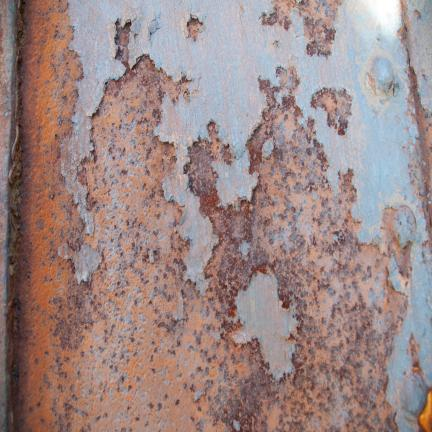besi_tidak_karat: (69, 0, 416, 242)
karat: (18, 3, 68, 430), (101, 92, 157, 427), (300, 265, 383, 381), (179, 344, 258, 432), (258, 379, 385, 432), (223, 211, 347, 263), (158, 211, 176, 432), (71, 291, 99, 429), (265, 169, 325, 209)
